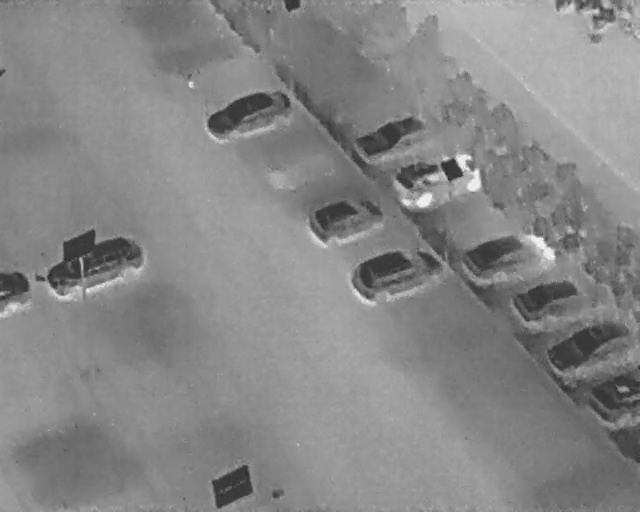Bicycle: (587, 2, 619, 33), (614, 0, 632, 21), (574, 0, 601, 12), (556, 0, 572, 11)
Car: (37, 223, 151, 309), (343, 232, 451, 314), (386, 137, 490, 219), (454, 219, 560, 295), (197, 75, 299, 152), (540, 308, 639, 380), (301, 182, 388, 254), (351, 104, 434, 163), (507, 269, 586, 329), (589, 371, 639, 426), (0, 269, 32, 316)
